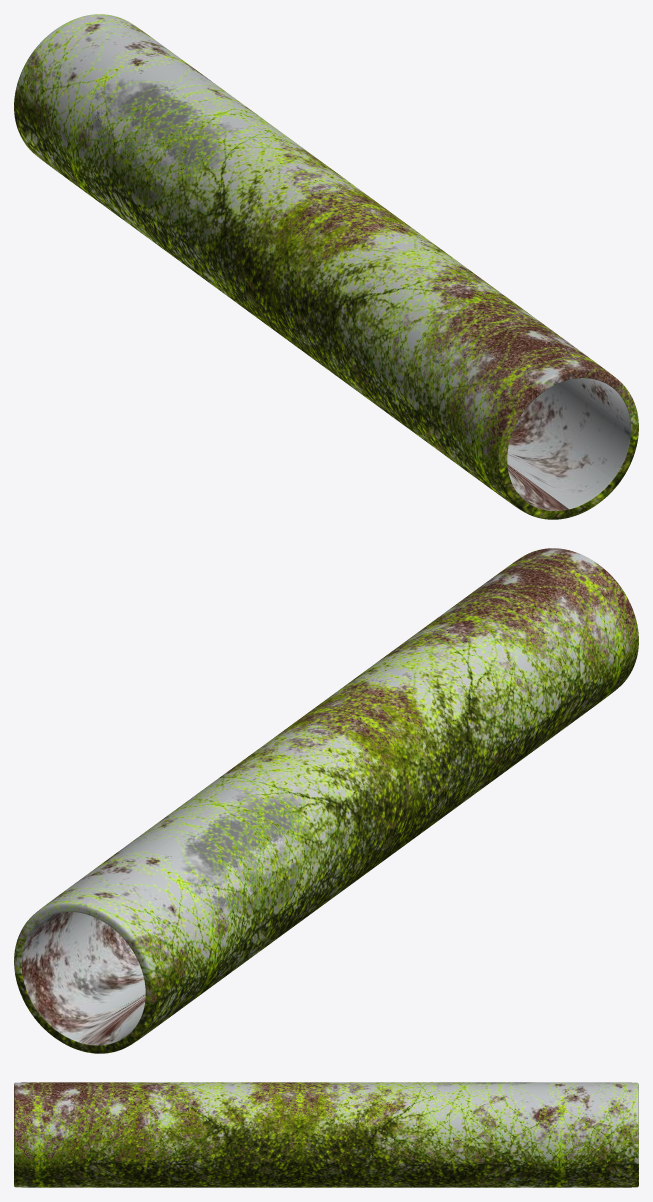
File: greenPipe.fbx
3 renders of one model, top to bottom at view 1: azimuth 30°, elevation 25°; view 2: azimuth 150°, elevation 25°; view 3: azimuth 270°, elevation 25°, orthographic. The views are drawn at different scales.
Parts seen in each view (by area): view 1: base_pipe; view 2: base_pipe; view 3: base_pipe.
Boxes of the visible parts, <box> form: base_pipe: <box>14,14,638,519</box>; base_pipe: <box>14,548,638,1053</box>; base_pipe: <box>14,1082,638,1187</box>.
Size of the model in its own units: 2.04 by 2.04 by 12.06.
1 material, 1 textured.
